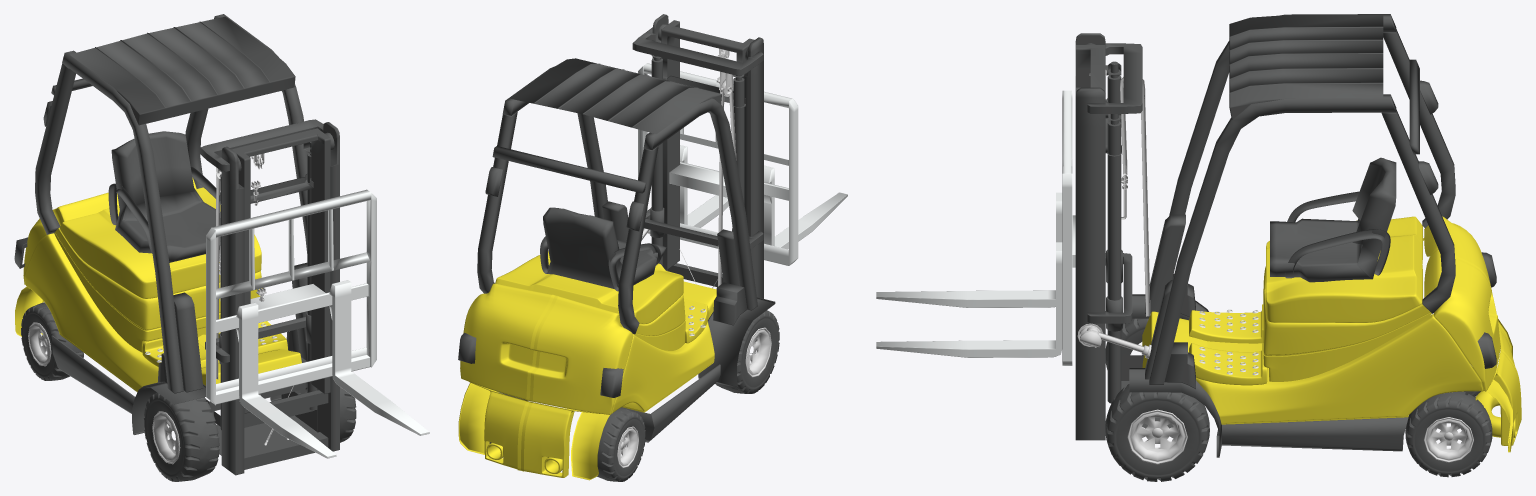
Rendered from forklift.gltf.
3 renders of one model, left to right at view 1: azimuth 30°, elevation 25°; view 2: azimuth 150°, elevation 25°; view 3: azimuth 270°, elevation 25°, orthographic. The views are drawn at different scales.
Parts seen in each view (by area): view 1: Plane.013, Plane, Plane.001, Plane.008, Plane.010, Plane.012, Plane.006, Plane.011, Circle.001, Circle.006, Circle.003, Plane.005 (+1 smaller); view 2: Plane.013, Plane.008, Plane, Plane.010, Plane.001, Plane.012, Plane.015, Plane.011, Plane.006, Circle.001, Circle.006, Circle.003; view 3: Plane.013, Plane.008, Plane, Plane.010, Plane.001, Plane.012, Plane.005, Plane.007, Circle, Circle.006, Circle.002, Circle.004 (+3 smaller).
Boxes of the visible parts, x1,y1,x2,y2 form: Plane.013: (23, 166, 301, 392); Plane: (200, 119, 339, 475); Plane.001: (206, 189, 429, 458); Plane.008: (14, 14, 317, 455); Plane.010: (70, 16, 295, 125); Plane.012: (111, 131, 220, 262); Plane.006: (143, 392, 219, 481); Plane.011: (21, 302, 83, 380); Circle.001: (152, 411, 180, 464); Circle.006: (216, 173, 266, 379); Circle.003: (28, 322, 51, 366); Plane.005: (281, 382, 356, 442); Plane.013: (460, 236, 716, 477); Plane.008: (458, 66, 775, 442); Plane: (632, 14, 763, 341); Plane.010: (510, 58, 721, 134); Plane.001: (638, 63, 847, 265); Plane.012: (543, 207, 666, 289); Plane.015: (458, 382, 609, 480); Plane.011: (597, 407, 645, 481); Plane.006: (715, 310, 779, 393); Circle.001: (745, 327, 771, 377); Circle.006: (716, 77, 736, 286); Circle.003: (617, 426, 638, 468); Plane.013: (1142, 191, 1521, 445); Plane.008: (1121, 14, 1496, 457); Plane: (1075, 33, 1142, 440); Plane.010: (1229, 14, 1383, 119); Plane.001: (876, 90, 1075, 365); Plane.012: (1270, 157, 1396, 282); Plane.005: (1105, 384, 1209, 481); Plane.007: (1405, 391, 1492, 477); Circle: (1127, 409, 1187, 464); Circle.006: (1120, 77, 1150, 316); Circle.002: (1424, 417, 1473, 462); Circle.004: (1077, 323, 1151, 358).
Size of what is drawn, in the model's own units: 3.31 by 6.26 by 9.47.
